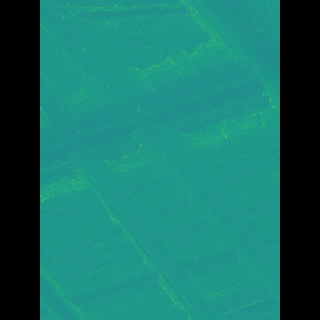Loch: (69, 0, 249, 300), (69, 71, 209, 320), (178, 0, 249, 92), (69, 257, 105, 320)
